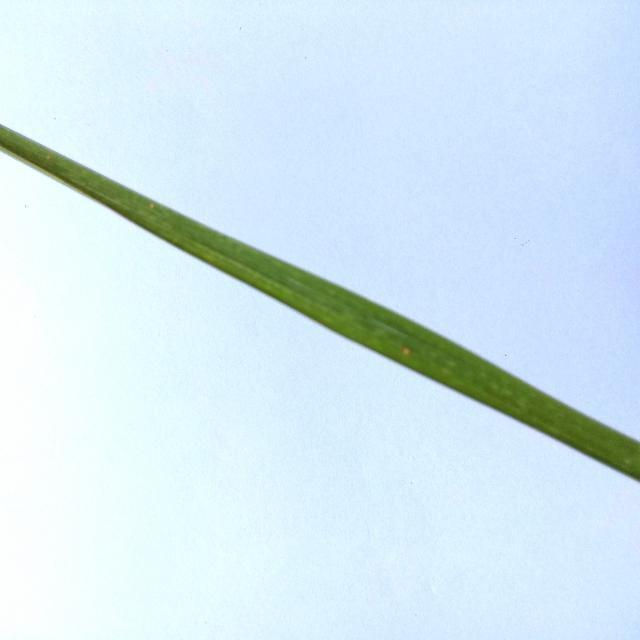Blast: (398, 343, 416, 358), (144, 198, 160, 214)
